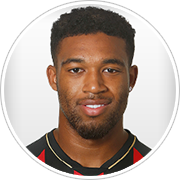smile: (77, 99, 110, 116)
